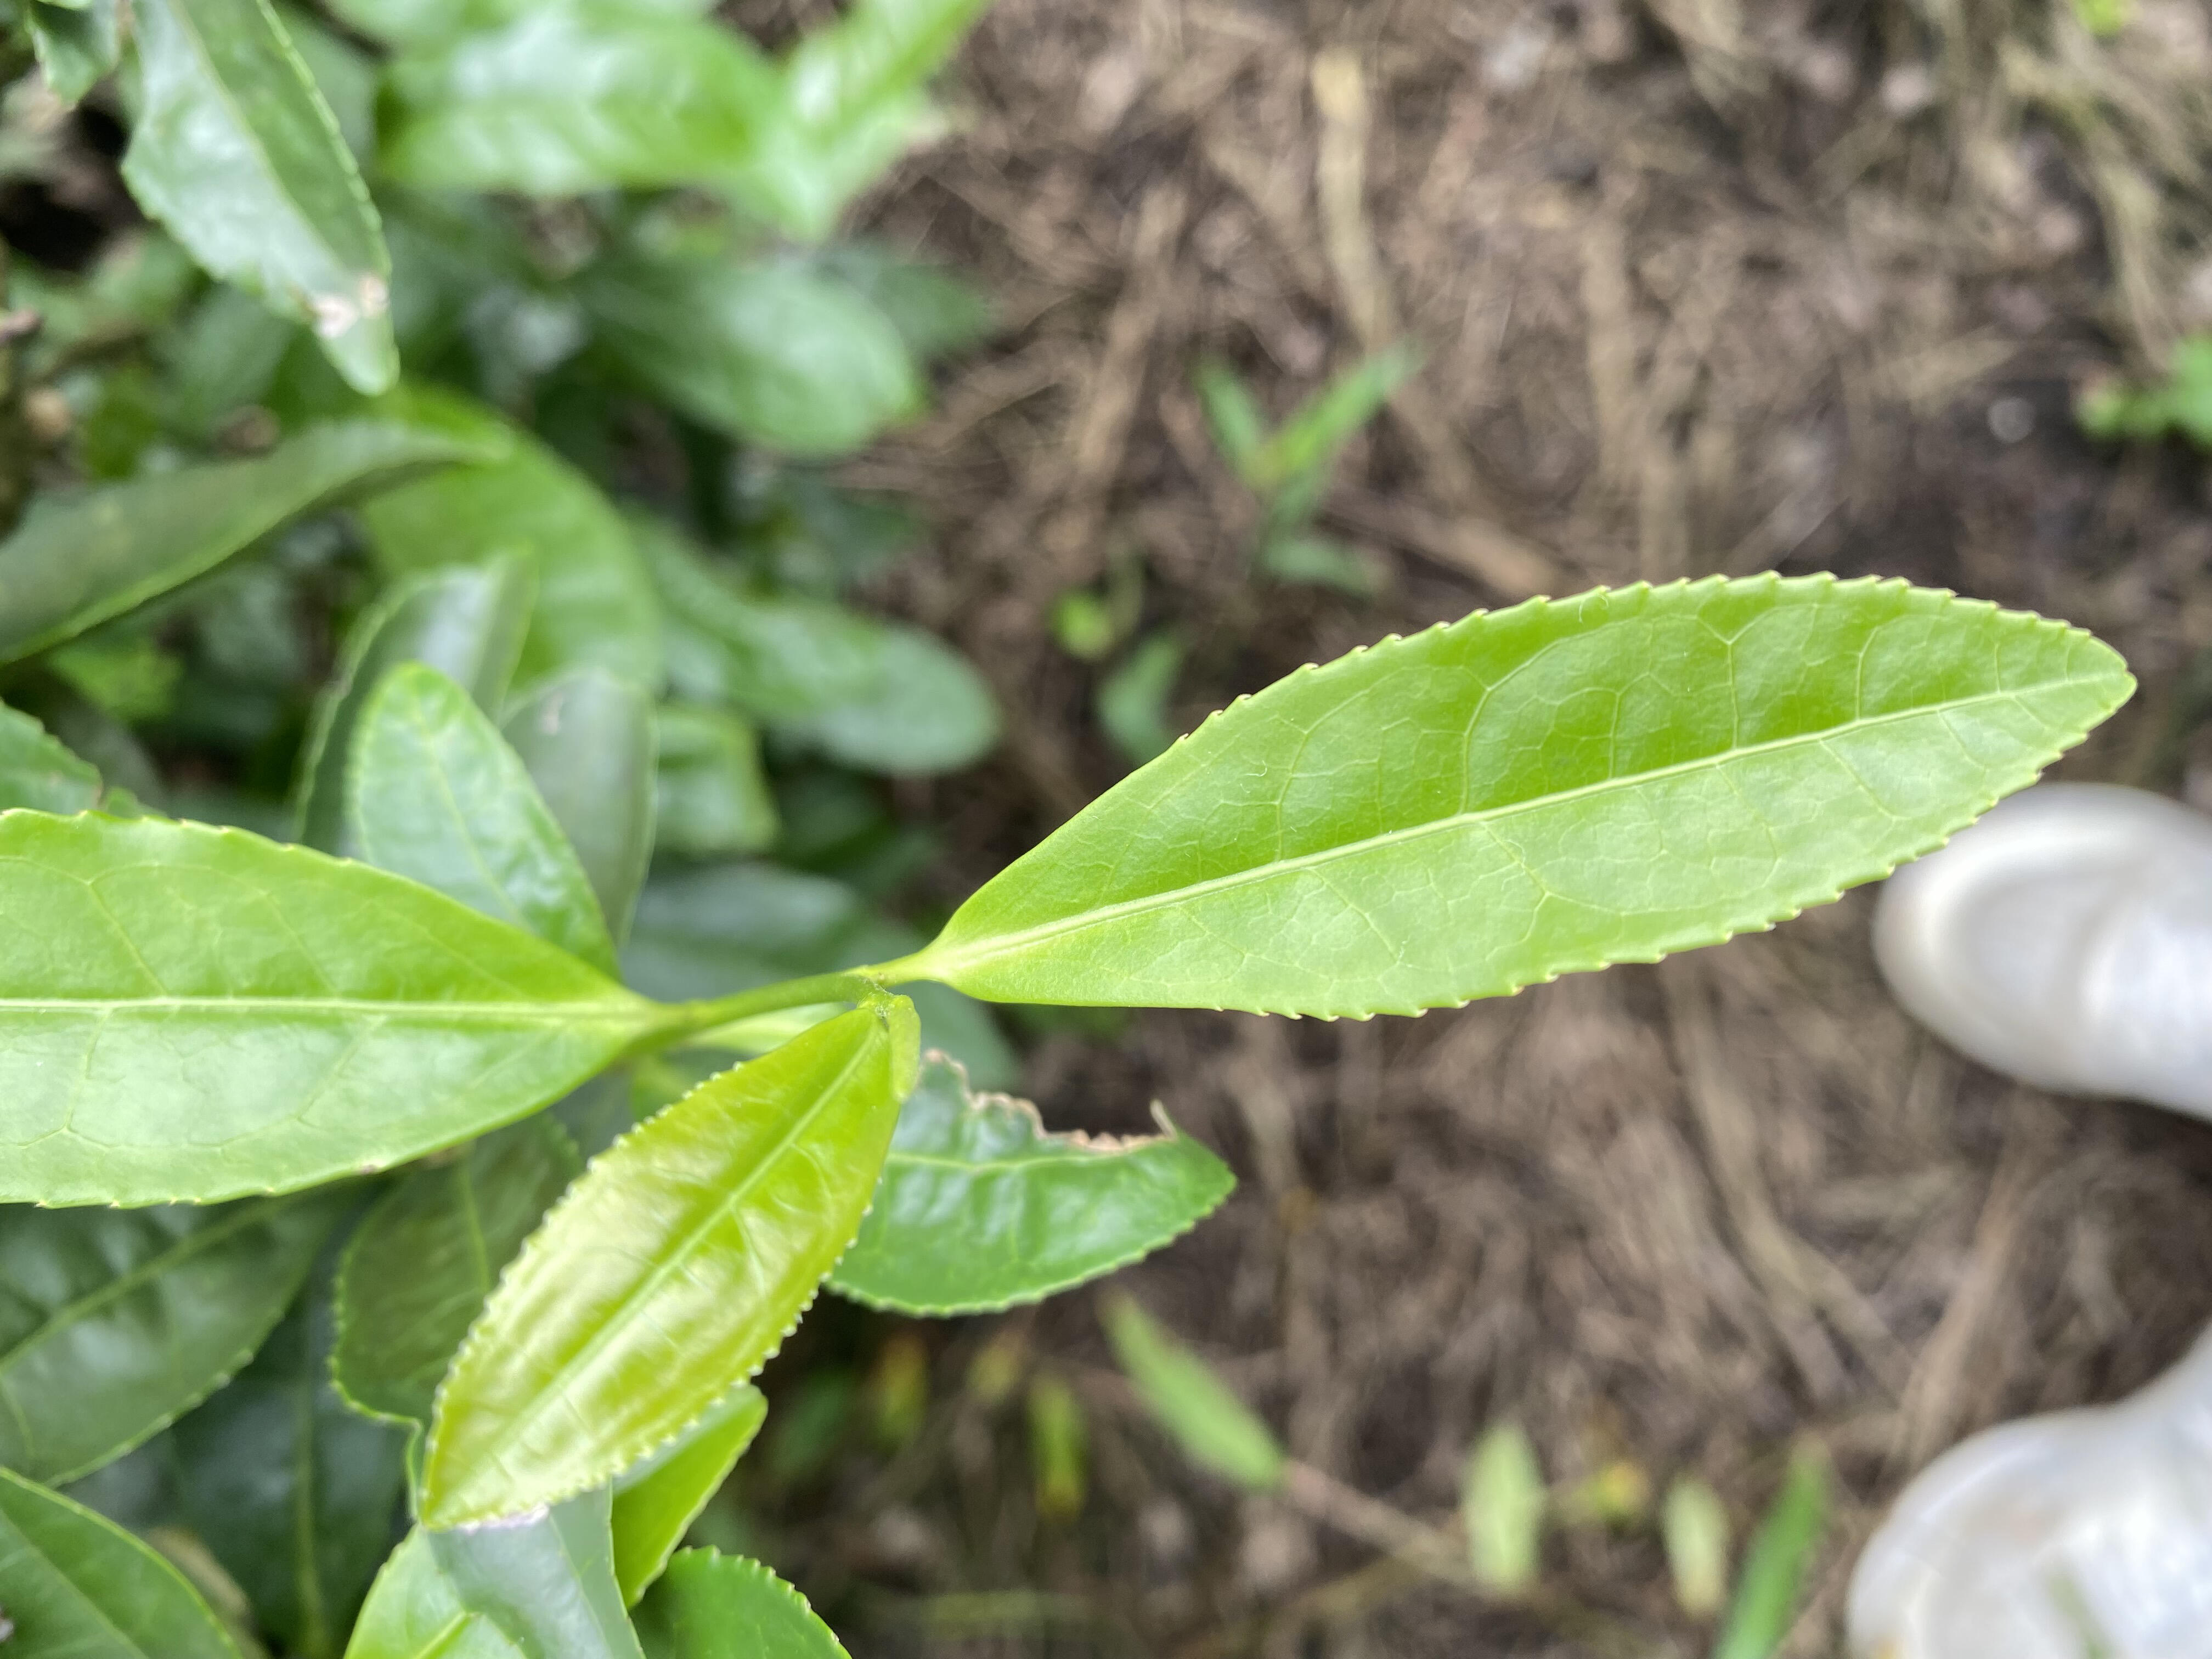chihuo_high: (822, 1047, 1240, 1319)
healthy: (932, 565, 2146, 1028), (0, 809, 636, 1215), (421, 1009, 897, 1528)
